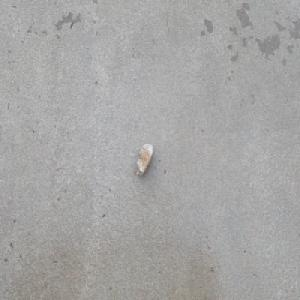Rock: (135, 142, 154, 176)
